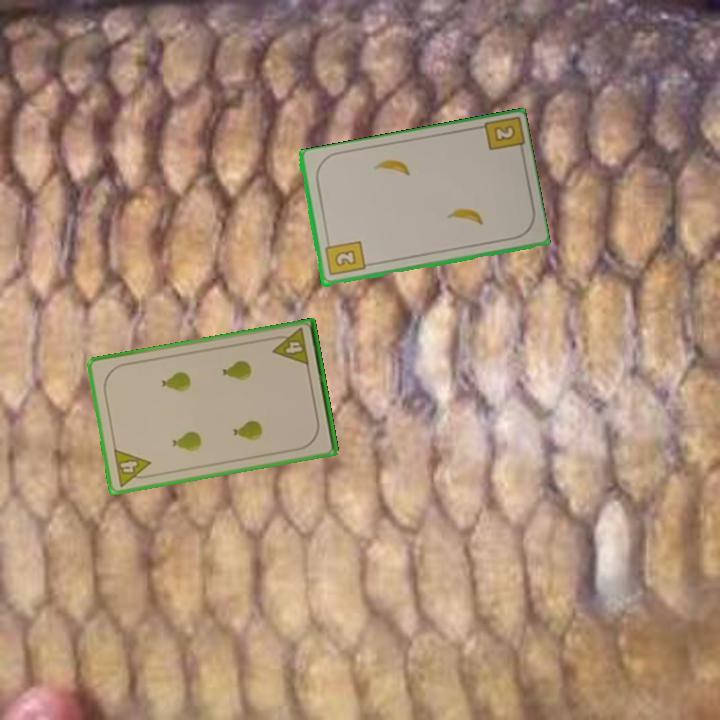2b: (321, 237, 367, 279), (490, 121, 518, 145)
4p: (110, 445, 155, 489), (268, 325, 312, 369)
